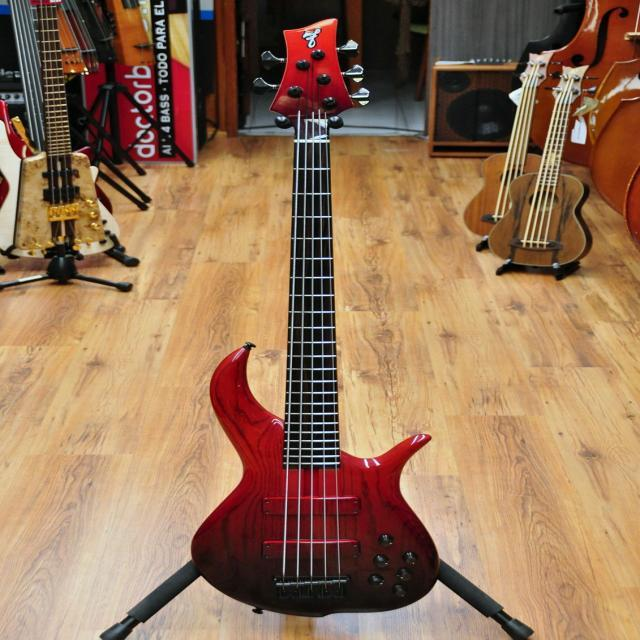bass: (192, 19, 438, 615)
